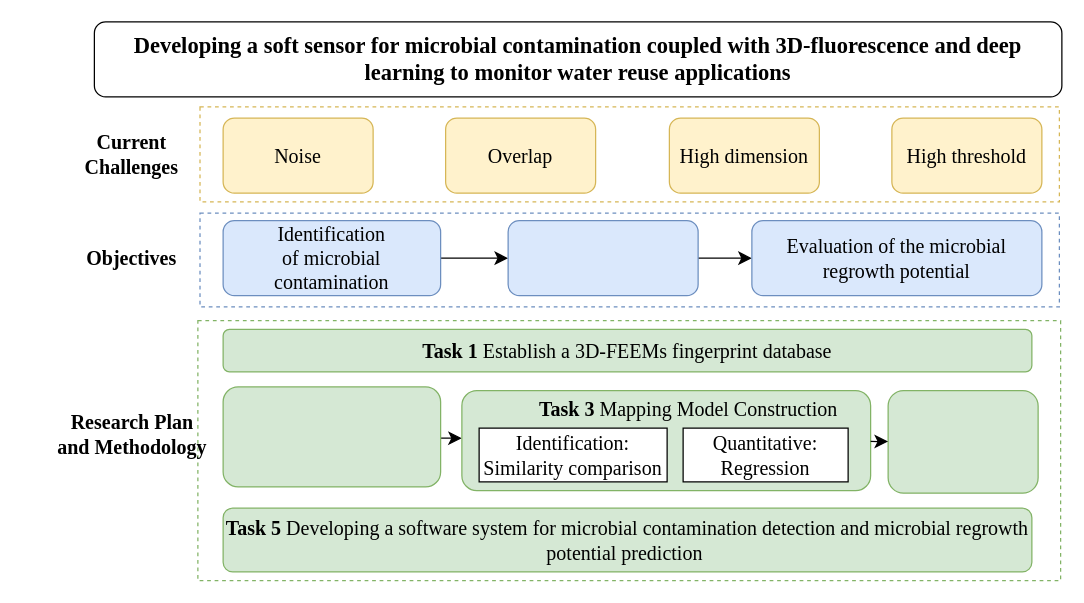
The diagram is 1084 pixels wide and 603 high, and some of its shapes have lost their labels. The shapes that lost their labels are listed below. From the top down, each one's centre as x and y in pixels, then its label:
the point at 602,257: Quantitative analysis of microbial contamination
the point at 331,436: Task 2 Feature extraction
the point at 962,441: Task 4
